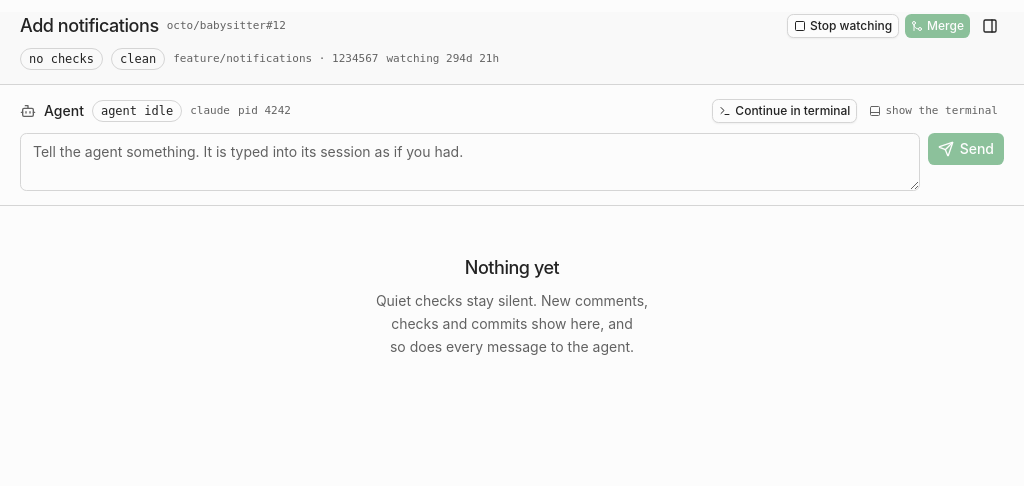
Test: opens the terminal in a panel at the bottom and closes it
Click the button "show the terminal": (934, 111) left=863, top=99, right=1004, bottom=123
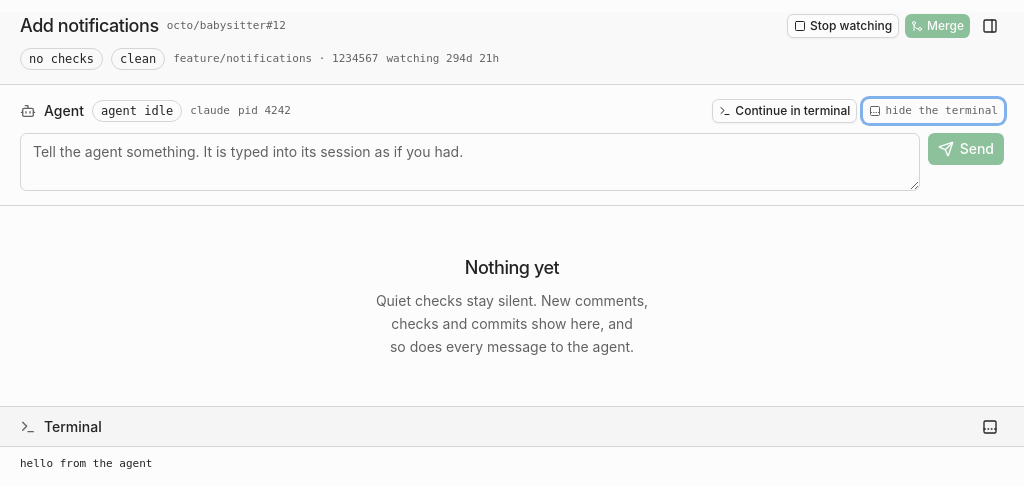
expect the element named "Resize terminal" is shown: met, box left=0, top=403, right=1023, bottom=411
expect the button "hide the terminal" is shown: met, box left=863, top=99, right=1004, bottom=123
Click the button named "Close the terminal": (990, 427) left=976, top=413, right=1004, bottom=441
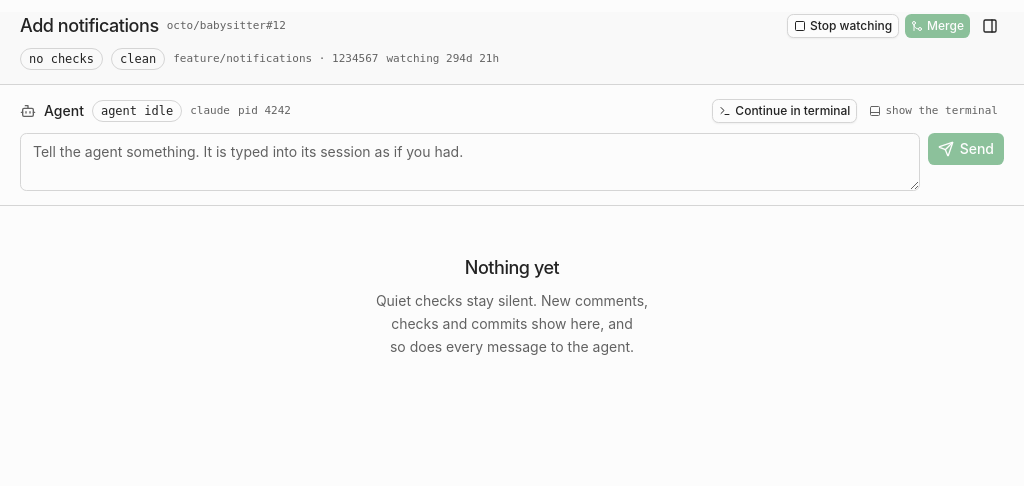
expect the button "show the terminal" is shown: met, box left=863, top=99, right=1004, bottom=123
